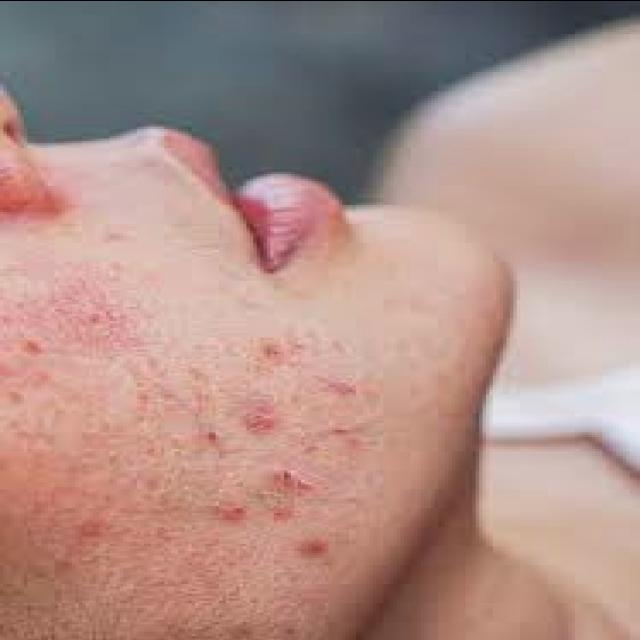Acne: (76, 304, 115, 340), (238, 404, 282, 434), (253, 334, 297, 364), (325, 420, 369, 450), (314, 372, 356, 400), (189, 420, 229, 449), (212, 498, 250, 526), (293, 534, 331, 560), (15, 333, 50, 358), (269, 461, 298, 487), (270, 500, 303, 522), (126, 390, 158, 412), (75, 518, 106, 537)
